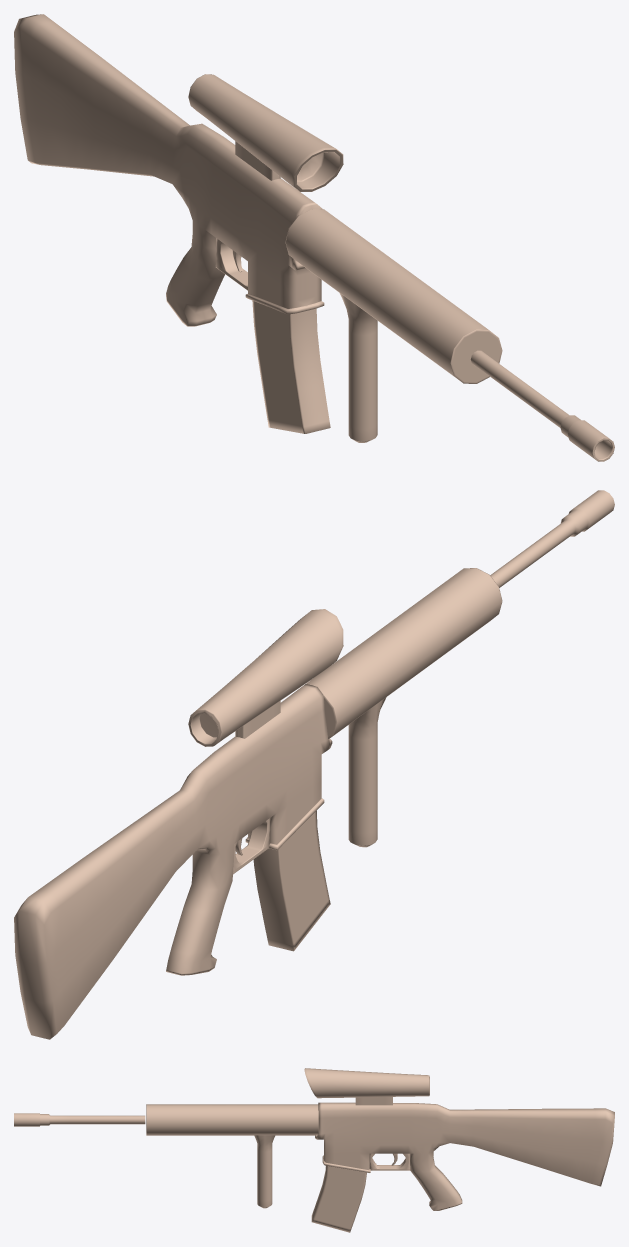
Rendered from gun.fbx.
3 renders of one model, top to bottom at view 1: azimuth 30°, elevation 25°; view 2: azimuth 150°, elevation 25°; view 3: azimuth 270°, elevation 25°, orthographic. The views are drawn at different scales.
Visible parts, largest first — view 1: group5; view 2: group5; view 3: group5.
Part boxes in pixels (x1,y1,x2,y2): group5: (14, 14, 614, 461); group5: (14, 490, 614, 1039); group5: (14, 1068, 614, 1232).
Bounding box in the file's own units: 6.79 × 38.52 × 131.
